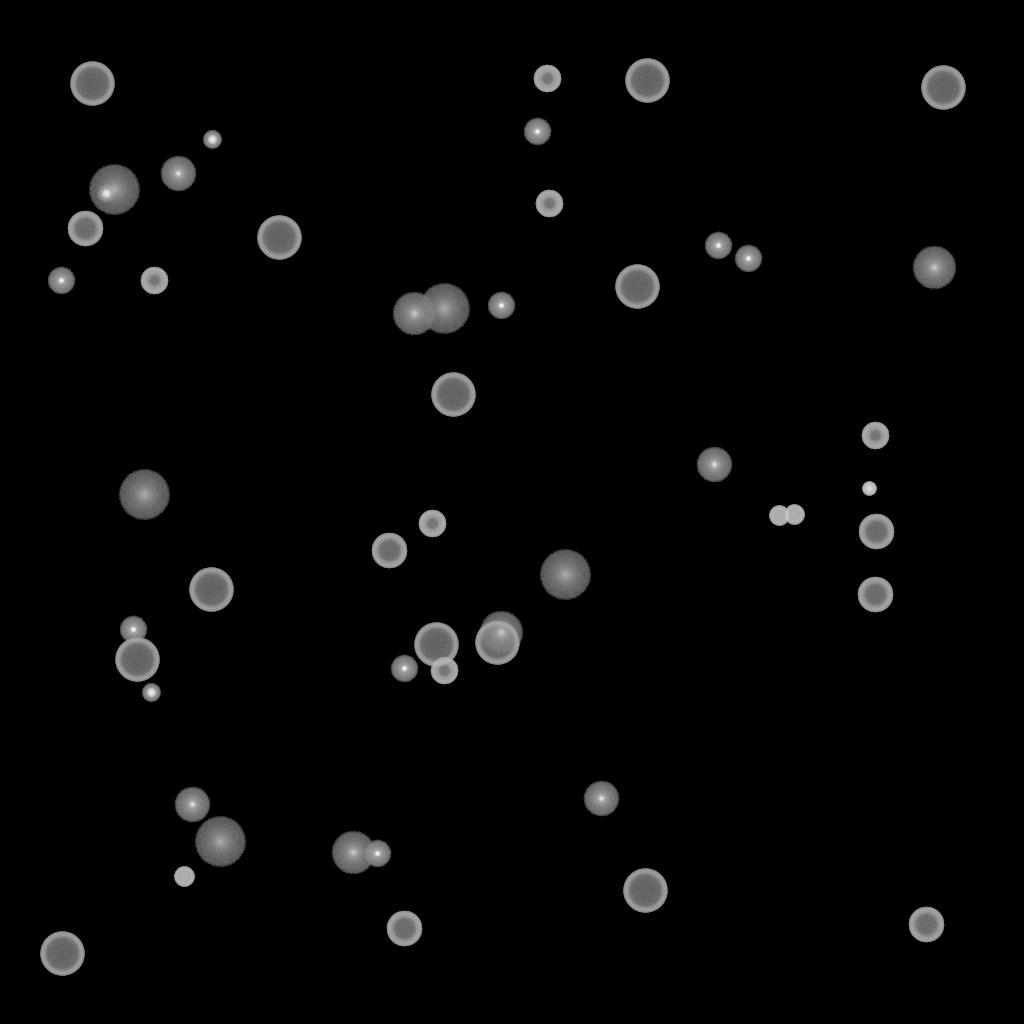depth:-10: (704, 232, 732, 260), (734, 245, 762, 273), (119, 616, 147, 644), (523, 118, 551, 146), (390, 655, 418, 683), (47, 267, 75, 295), (487, 292, 515, 320), (363, 840, 391, 868)
depth:-20: (142, 684, 160, 702), (203, 131, 221, 149), (97, 185, 115, 203)
depth:-30: (862, 482, 876, 496)
depth:-40: (174, 867, 194, 887), (784, 505, 804, 525), (769, 506, 789, 526)
depth:-50: (430, 657, 458, 685), (418, 510, 446, 538), (861, 422, 889, 450), (140, 267, 168, 295), (533, 65, 561, 93), (535, 190, 563, 218)
depth:-60: (857, 577, 893, 613), (371, 533, 407, 569), (858, 514, 894, 550), (908, 907, 944, 943), (67, 211, 103, 247), (386, 911, 422, 947)
depth:-70: (40, 932, 84, 976), (431, 373, 475, 417), (189, 568, 233, 612), (414, 623, 458, 667), (115, 638, 159, 682), (623, 869, 667, 913), (257, 216, 301, 260), (70, 62, 114, 106), (921, 66, 965, 110), (625, 59, 669, 103), (615, 265, 659, 309), (475, 621, 519, 665)
depth:0: (160, 156, 196, 192), (696, 447, 732, 483), (174, 787, 210, 823), (583, 781, 619, 817)
depth:10: (912, 246, 956, 290), (392, 292, 436, 336), (331, 831, 375, 875), (479, 611, 523, 655)
depth:20: (418, 284, 470, 334), (194, 817, 246, 867), (118, 470, 170, 520), (539, 550, 591, 600), (88, 165, 140, 215)
